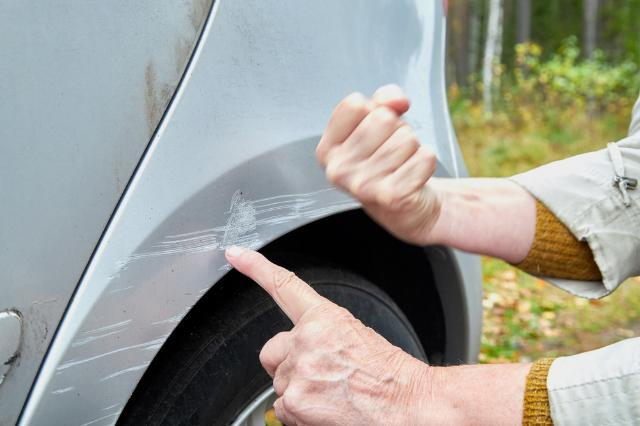scratch: (50, 186, 363, 426)
